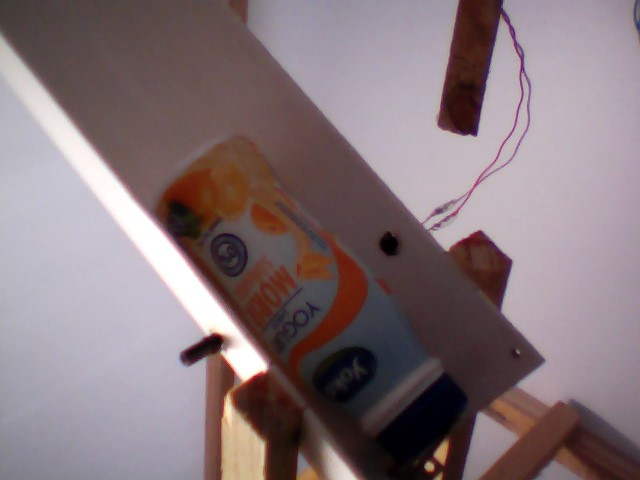plastico: (145, 128, 480, 480)
